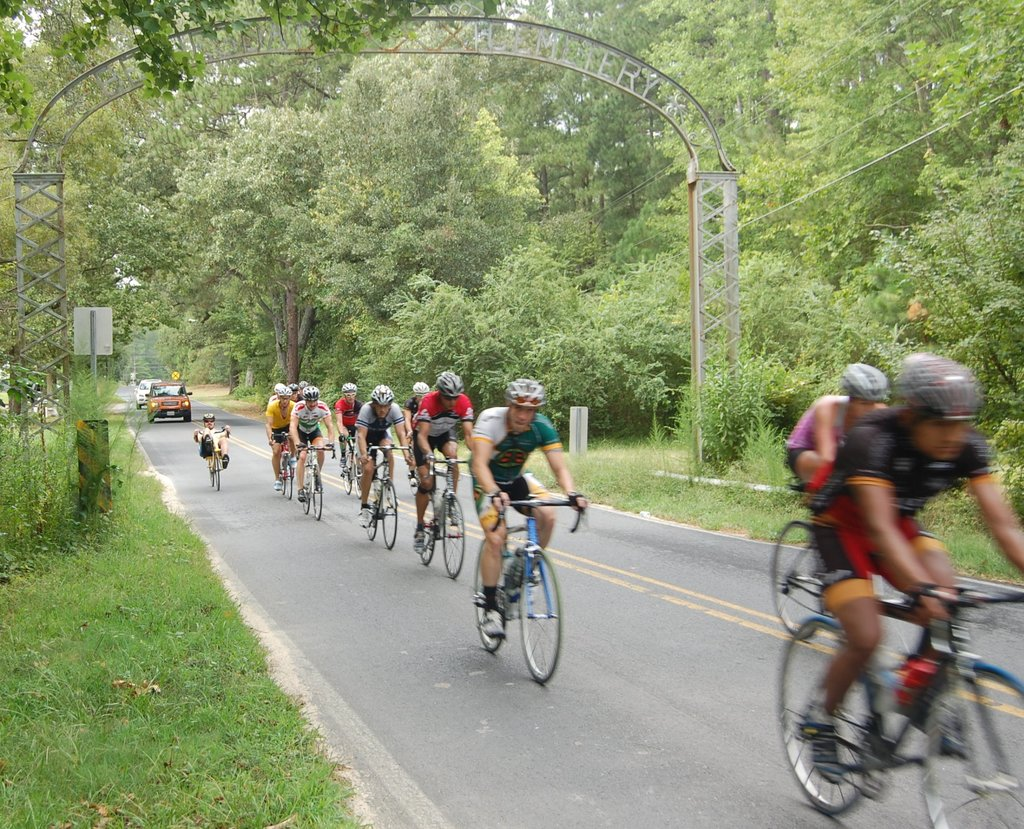Bicycle: (768, 496, 931, 672), (469, 493, 584, 687), (413, 449, 474, 581), (363, 440, 412, 553), (292, 442, 336, 518), (194, 426, 232, 490), (268, 429, 296, 499), (336, 435, 364, 499), (407, 451, 436, 502)
